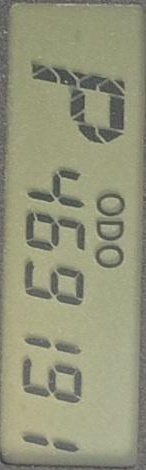1: (21, 431, 79, 453), (23, 335, 81, 355)
4: (25, 167, 85, 208)
6: (25, 212, 85, 251)
9: (21, 357, 82, 404), (24, 261, 85, 307)
X: (25, 60, 126, 146), (94, 244, 124, 269), (95, 192, 125, 216), (95, 220, 124, 240)
